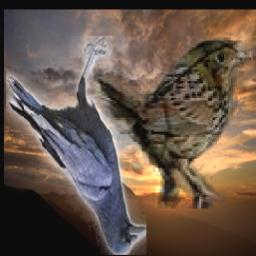Crow: (7, 36, 147, 255)
Sparrow: (94, 32, 254, 209)
